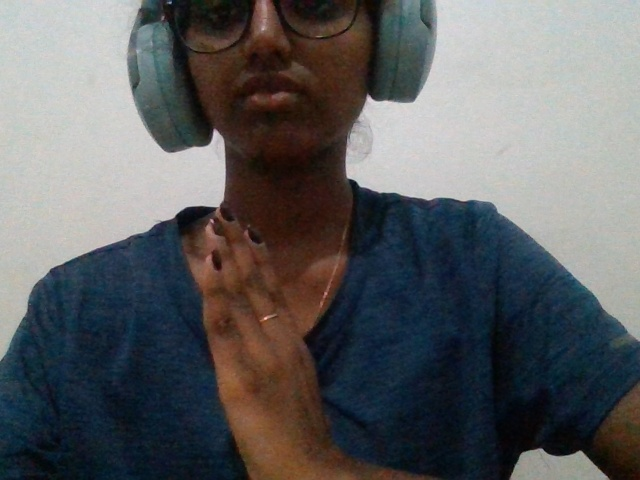Fine: (135, 170, 368, 480)
